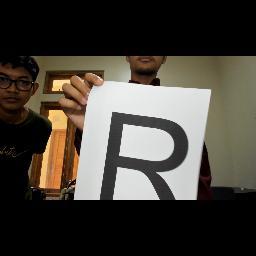r: (95, 110, 197, 200)
